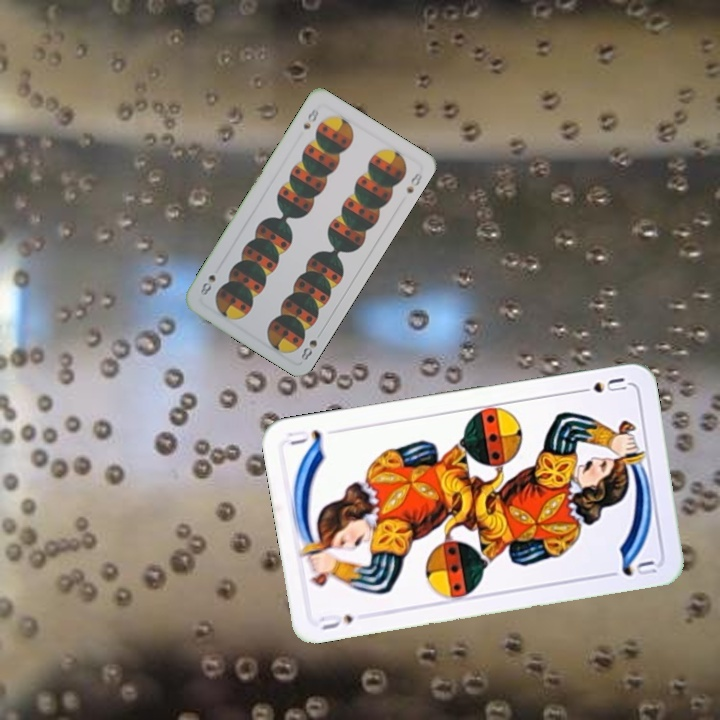S8: (297, 327, 325, 363), (299, 104, 322, 132)
SU: (572, 373, 630, 397), (316, 610, 356, 633)
